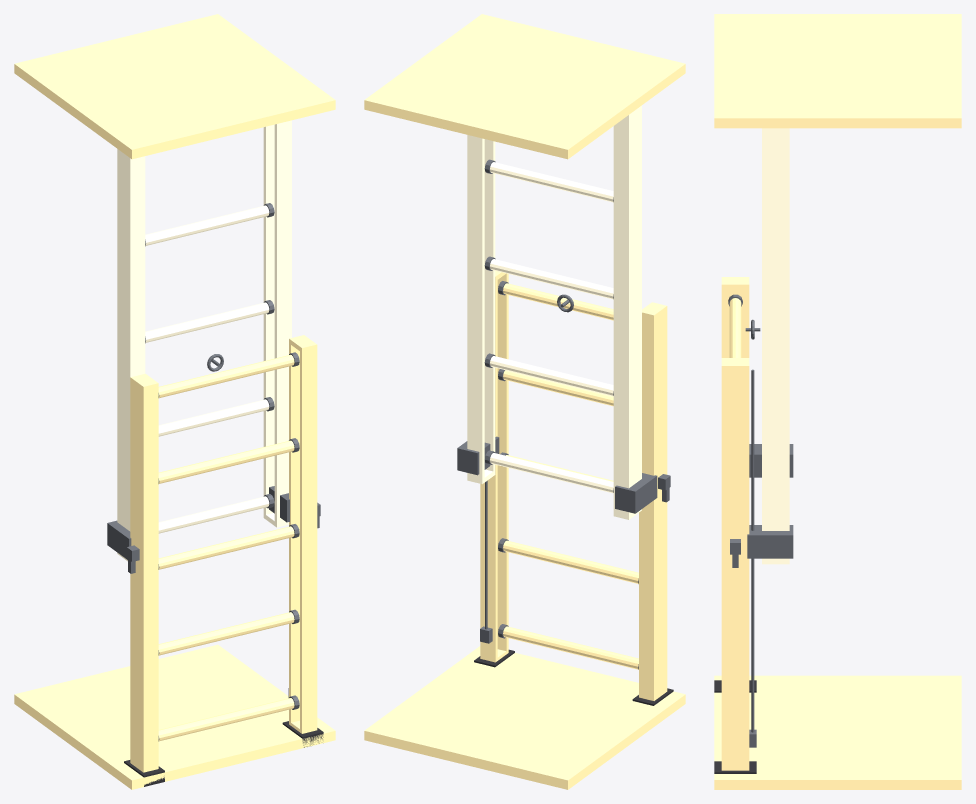
The model's file is ladder_small.glb.
3 views of the same model, side by side, from view 1: azimuth 30°, elevation 25°; view 2: azimuth 150°, elevation 25°; view 3: azimuth 270°, elevation 25° (orthographic). The views are drawn at different scales.
Parts seen in each view (by area): view 1: LadderSmall_Top-convcol, LadderSmall_Foot-convcol, LadderSmall_BaseL_Front, LadderSmall_BaseR_Front, LadderSmall_FlyR_Front, LadderSmall_BaseL_Web-convcol, LadderSmall_FlyL_Web-convcol, LadderSmall_FlyL_Front, LadderSmall_FlyR_Back, LadderSmall_BaseR_Back, LadderSmall_BaseRung2, LadderSmall_BaseRung0 (+11 smaller); view 2: LadderSmall_Top-convcol, LadderSmall_Foot-convcol, LadderSmall_FlyL_Back, LadderSmall_FlyR_Back, LadderSmall_BaseL_Back, LadderSmall_BaseL_Web-convcol, LadderSmall_BaseR_Front, LadderSmall_FlyL_Web-convcol, LadderSmall_FlyR_Front, LadderSmall_BaseR_Back, LadderSmall_BaseRung0, LadderSmall_BaseRung1 (+12 smaller); view 3: LadderSmall_Top-convcol, LadderSmall_Foot-convcol, LadderSmall_FlyR_Web-convcol, LadderSmall_BaseR_Web-convcol, LadderSmall_BaseR_Front, LadderSmall_BaseR_Back, LadderSmall_FlyR_Back, LadderSmall_FlyR_Front, LadderSmall_GuideR, LadderSmall_Rope, LadderSmall_BaseRung4, LadderSmall_BaseL_Web-convcol (+1 smaller).
Boxes of the visible parts, x1=… form: LadderSmall_Top-convcol: x1=14, y1=14, x2=335, y2=159; LadderSmall_Foot-convcol: x1=14, y1=644, x2=335, y2=789; LadderSmall_BaseL_Front: x1=141, y1=382, x2=158, y2=770; LadderSmall_BaseR_Front: x1=300, y1=343, x2=317, y2=732; LadderSmall_FlyR_Front: x1=274, y1=120, x2=291, y2=522; LadderSmall_BaseL_Web-convcol: x1=130, y1=376, x2=147, y2=771; LadderSmall_FlyL_Web-convcol: x1=117, y1=149, x2=134, y2=529; LadderSmall_FlyL_Front: x1=128, y1=156, x2=145, y2=530; LadderSmall_FlyR_Back: x1=263, y1=124, x2=274, y2=519; LadderSmall_BaseR_Back: x1=289, y1=335, x2=302, y2=725; LadderSmall_BaseRung2: x1=158, y1=526, x2=294, y2=569; LadderSmall_BaseRung0: x1=158, y1=698, x2=294, y2=741; LadderSmall_Top-convcol: x1=364, y1=14, x2=685, y2=159; LadderSmall_Foot-convcol: x1=364, y1=646, x2=685, y2=789; LadderSmall_FlyL_Back: x1=613, y1=113, x2=630, y2=519; LadderSmall_FlyR_Back: x1=467, y1=135, x2=484, y2=484; LadderSmall_BaseL_Back: x1=639, y1=312, x2=656, y2=700; LadderSmall_BaseL_Web-convcol: x1=651, y1=307, x2=667, y2=699; LadderSmall_BaseR_Front: x1=497, y1=273, x2=508, y2=653; LadderSmall_FlyL_Web-convcol: x1=626, y1=107, x2=641, y2=516; LadderSmall_FlyR_Front: x1=484, y1=139, x2=495, y2=475; LadderSmall_BaseR_Back: x1=480, y1=274, x2=497, y2=662; LadderSmall_BaseRung0: x1=503, y1=626, x2=638, y2=669; LadderSmall_BaseRung1: x1=503, y1=540, x2=638, y2=583; LadderSmall_Top-convcol: x1=714, y1=14, x2=961, y2=128; LadderSmall_Foot-convcol: x1=714, y1=675, x2=961, y2=789; LadderSmall_FlyR_Web-convcol: x1=762, y1=128, x2=789, y2=564; LadderSmall_BaseR_Web-convcol: x1=726, y1=371, x2=744, y2=767; LadderSmall_BaseR_Front: x1=721, y1=358, x2=726, y2=770; LadderSmall_BaseR_Back: x1=745, y1=358, x2=749, y2=770; LadderSmall_FlyR_Back: x1=785, y1=128, x2=789, y2=563; LadderSmall_FlyR_Front: x1=762, y1=128, x2=766, y2=563; LadderSmall_GuideR: x1=747, y1=525, x2=793, y2=558; LadderSmall_Rope: x1=751, y1=369, x2=754, y2=732; LadderSmall_BaseRung4: x1=729, y1=298, x2=741, y2=357; LadderSmall_BaseL_Web-convcol: x1=722, y1=277, x2=749, y2=357.
Bounding box in the file's own units: 1.35 × 4.05 × 1.35.
